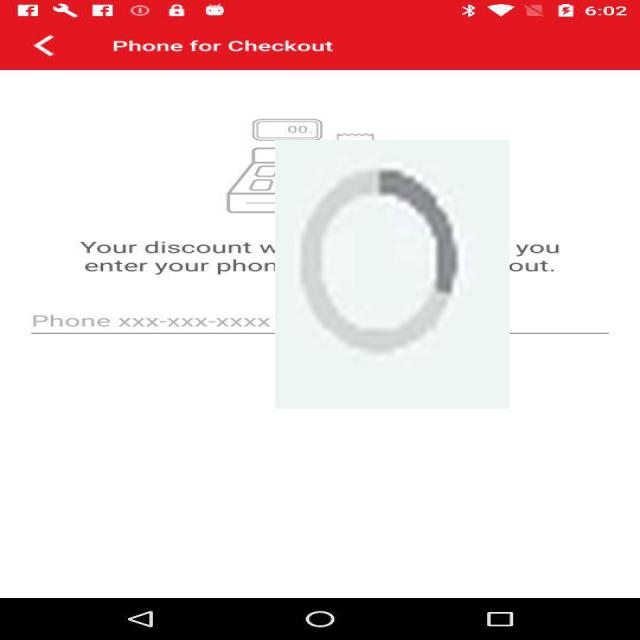misdirection: (275, 140, 510, 409)
